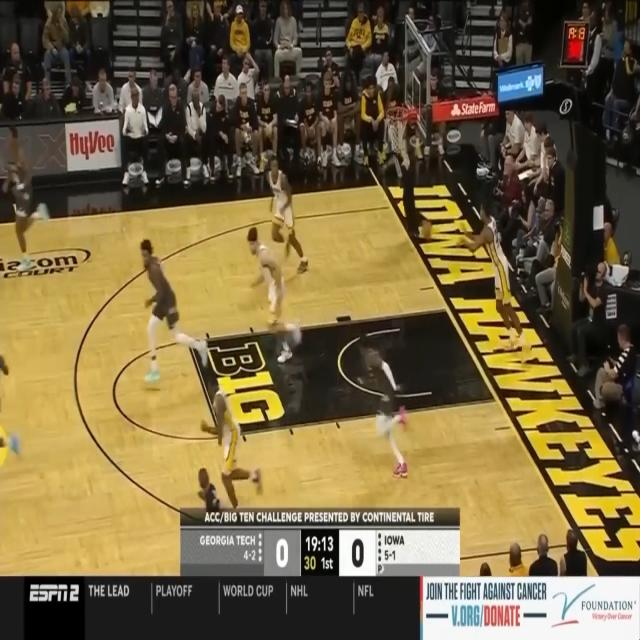Ball: (420, 218, 432, 240)
Clock: (560, 21, 590, 68)
Hoop: (386, 106, 410, 154)
Overlay: (0, 576, 640, 640), (180, 508, 460, 576)
Player: (457, 202, 534, 368), (139, 237, 209, 385), (200, 374, 264, 527), (355, 334, 410, 479), (246, 227, 304, 363), (4, 126, 50, 274), (267, 157, 309, 274), (0, 336, 20, 464)
Ref: (198, 468, 240, 611), (384, 130, 430, 242)
Scoreboard: (180, 530, 460, 576)
